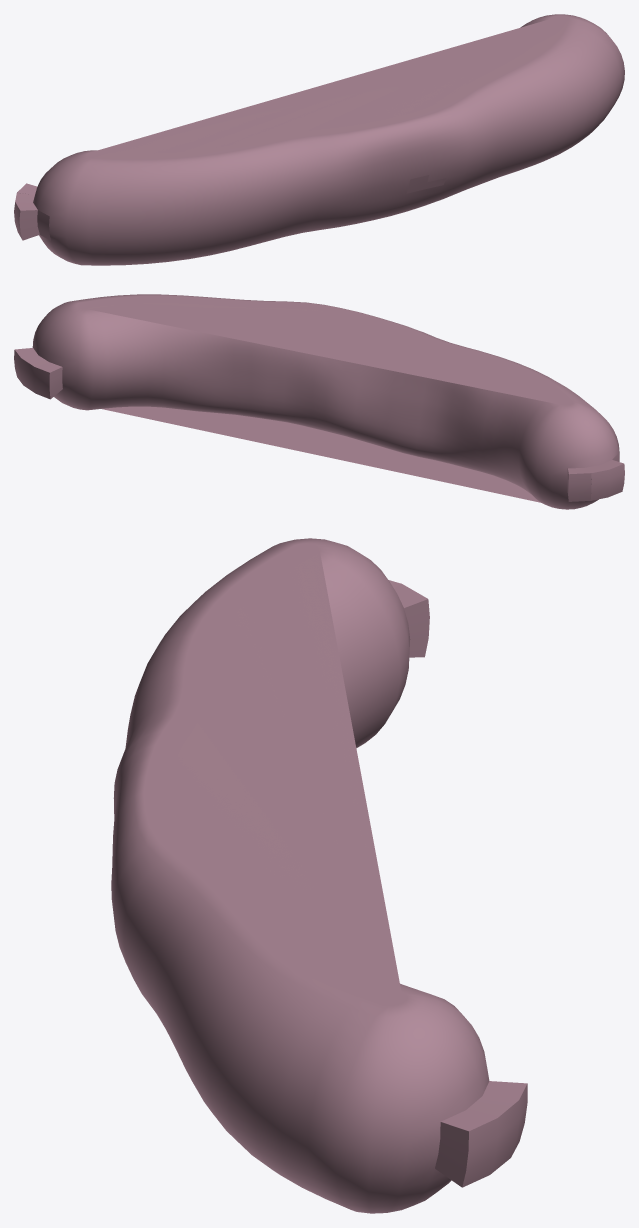
The model's file is food_raw.fbx.
The picture shows the model from 3 angles, top to bottom: view 1: azimuth 30°, elevation 25°; view 2: azimuth 150°, elevation 25°; view 3: azimuth 270°, elevation 25°; orthographic projection. The views are drawn at different scales.
Parts seen in each view (by area): view 1: sausage; view 2: sausage; view 3: sausage.
Part boxes in pixels (x1,y1,x2,y2): sausage: (14, 14, 624, 265); sausage: (14, 294, 624, 509); sausage: (111, 538, 527, 1213).
Size of the model in its own units: 11.83 by 1.98 by 3.7.
